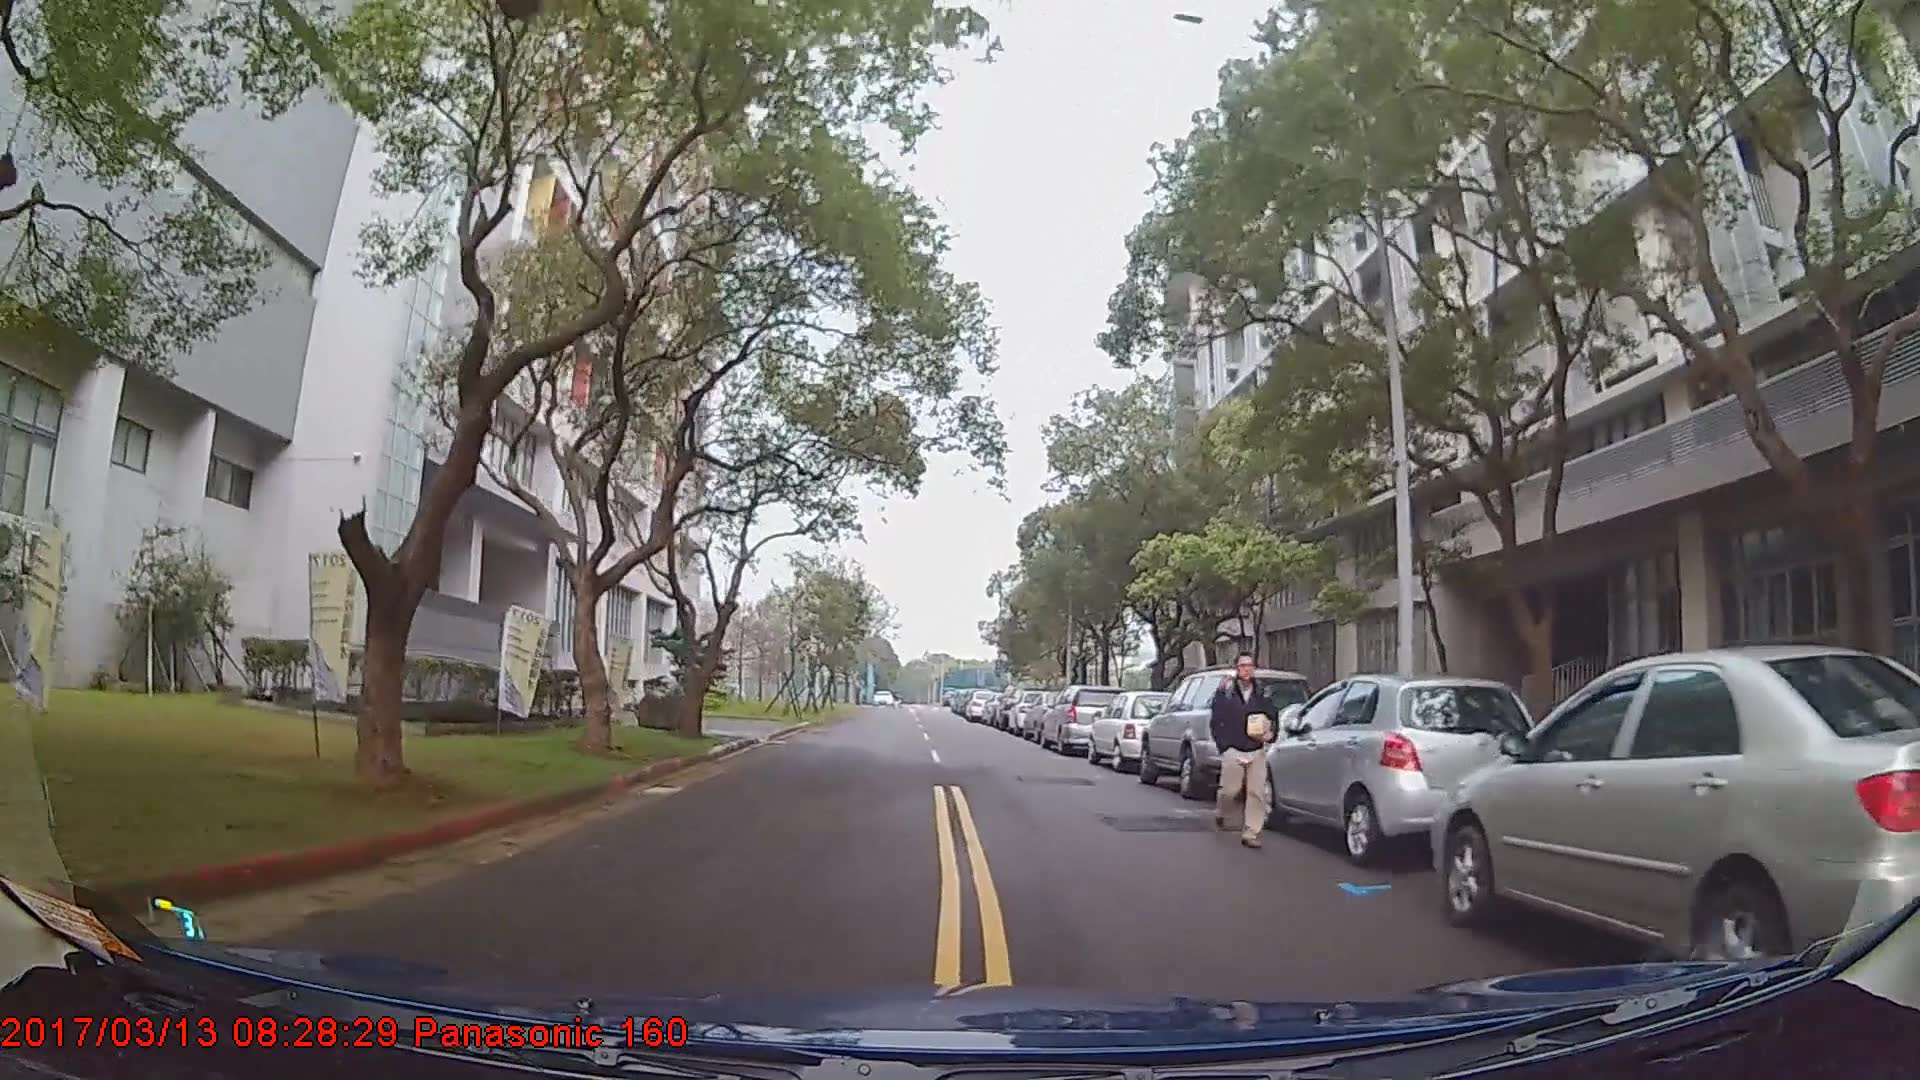pedestrian: (1210, 654, 1283, 851)
vehicle: (1428, 641, 1920, 992), (1250, 669, 1538, 869), (1138, 670, 1321, 800), (1085, 692, 1185, 774), (1040, 685, 1128, 756), (963, 690, 999, 724)
